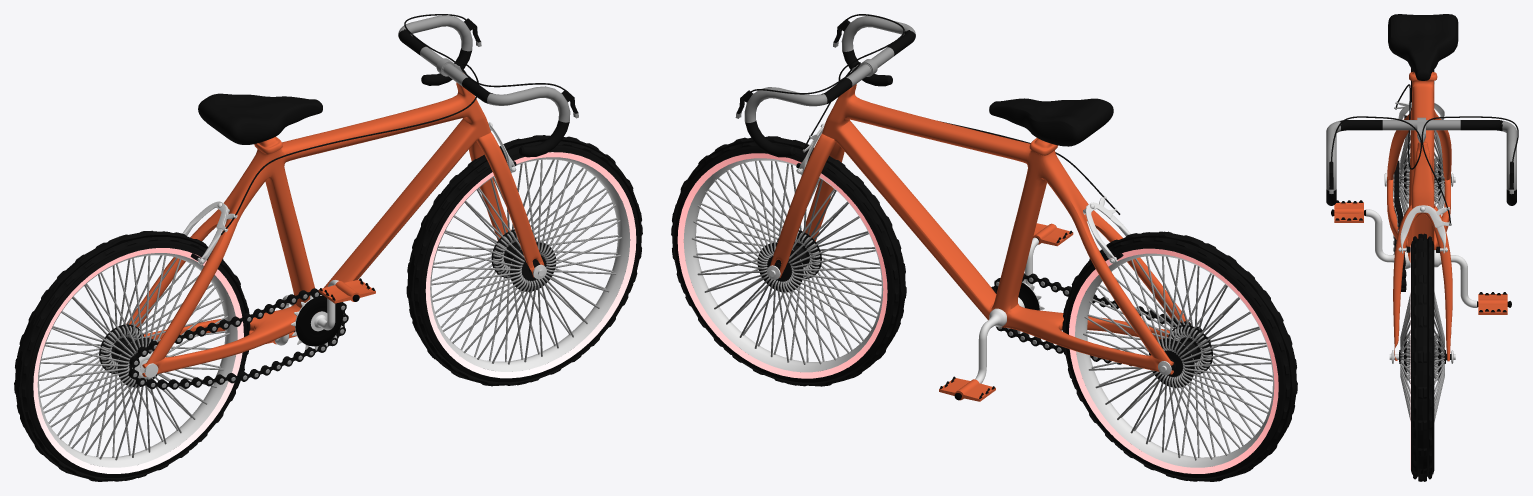
File: bike.gltf
3 views of the same model, side by side, from view 1: azimuth 30°, elevation 25°; view 2: azimuth 150°, elevation 25°; view 3: azimuth 270°, elevation 25° (orthographic). The views are drawn at different scales.
Visible parts, largest first — view 1: Bike, F_Pneu, B_Pneu, F_Raios, B_Raios, Cylinder.003, Cube, Cylinder.002, Cylinder, F_Eixo, B_Eixo, NurbsCurve (+2 smaller); view 2: Bike, B_Pneu, F_Pneu, F_Raios, B_Raios, Cylinder.003, Cube, Cylinder, B_Eixo, F_Eixo, Cylinder.002, Pedal_E (+1 smaller); view 3: Bike, F_Pneu, Cylinder.003, Cube, F_Raios, Cylinder, B_Raios, BreakF, Cylinder.002, Pedal_E, Pedal_E.001, NurbsCurve (+4 smaller).
Part boxes in pixels (x1,y1,x2,y2): Bike: [126, 73, 544, 376]; F_Pneu: [406, 135, 642, 386]; B_Pneu: [14, 230, 250, 481]; F_Raios: [426, 159, 621, 364]; B_Raios: [33, 255, 229, 460]; Cylinder.003: [398, 15, 578, 157]; Cube: [198, 93, 322, 144]; Cylinder.002: [128, 288, 348, 389]; Cylinder: [275, 279, 359, 350]; F_Eixo: [491, 229, 556, 291]; B_Eixo: [99, 324, 158, 387]; NurbsCurve: [221, 63, 565, 235]; Bike: [770, 84, 1189, 374]; B_Pneu: [1062, 231, 1297, 481]; F_Pneu: [671, 136, 906, 386]; F_Raios: [692, 160, 887, 364]; B_Raios: [1083, 256, 1272, 460]; Cylinder.003: [735, 15, 915, 157]; Cube: [989, 98, 1113, 146]; Cylinder: [954, 225, 1055, 400]; B_Eixo: [1149, 325, 1212, 387]; F_Eixo: [757, 230, 821, 292]; Cylinder.002: [991, 273, 1210, 366]; Pedal_E: [939, 376, 995, 401]; Bike: [1387, 71, 1452, 361]; F_Pneu: [1410, 233, 1434, 481]; Cylinder.003: [1326, 117, 1516, 205]; Cube: [1388, 14, 1458, 80]; F_Raios: [1400, 292, 1444, 421]; Cylinder: [1331, 209, 1511, 307]; B_Raios: [1400, 130, 1444, 215]; BreakF: [1398, 205, 1451, 253]; Cylinder.002: [1393, 160, 1406, 291]; Pedal_E: [1478, 292, 1507, 314]; Pedal_E.001: [1334, 200, 1363, 222]; NurbsCurve: [1331, 84, 1421, 169].
Size of the model in its own units: 4.7 by 2.5 by 1.36.
